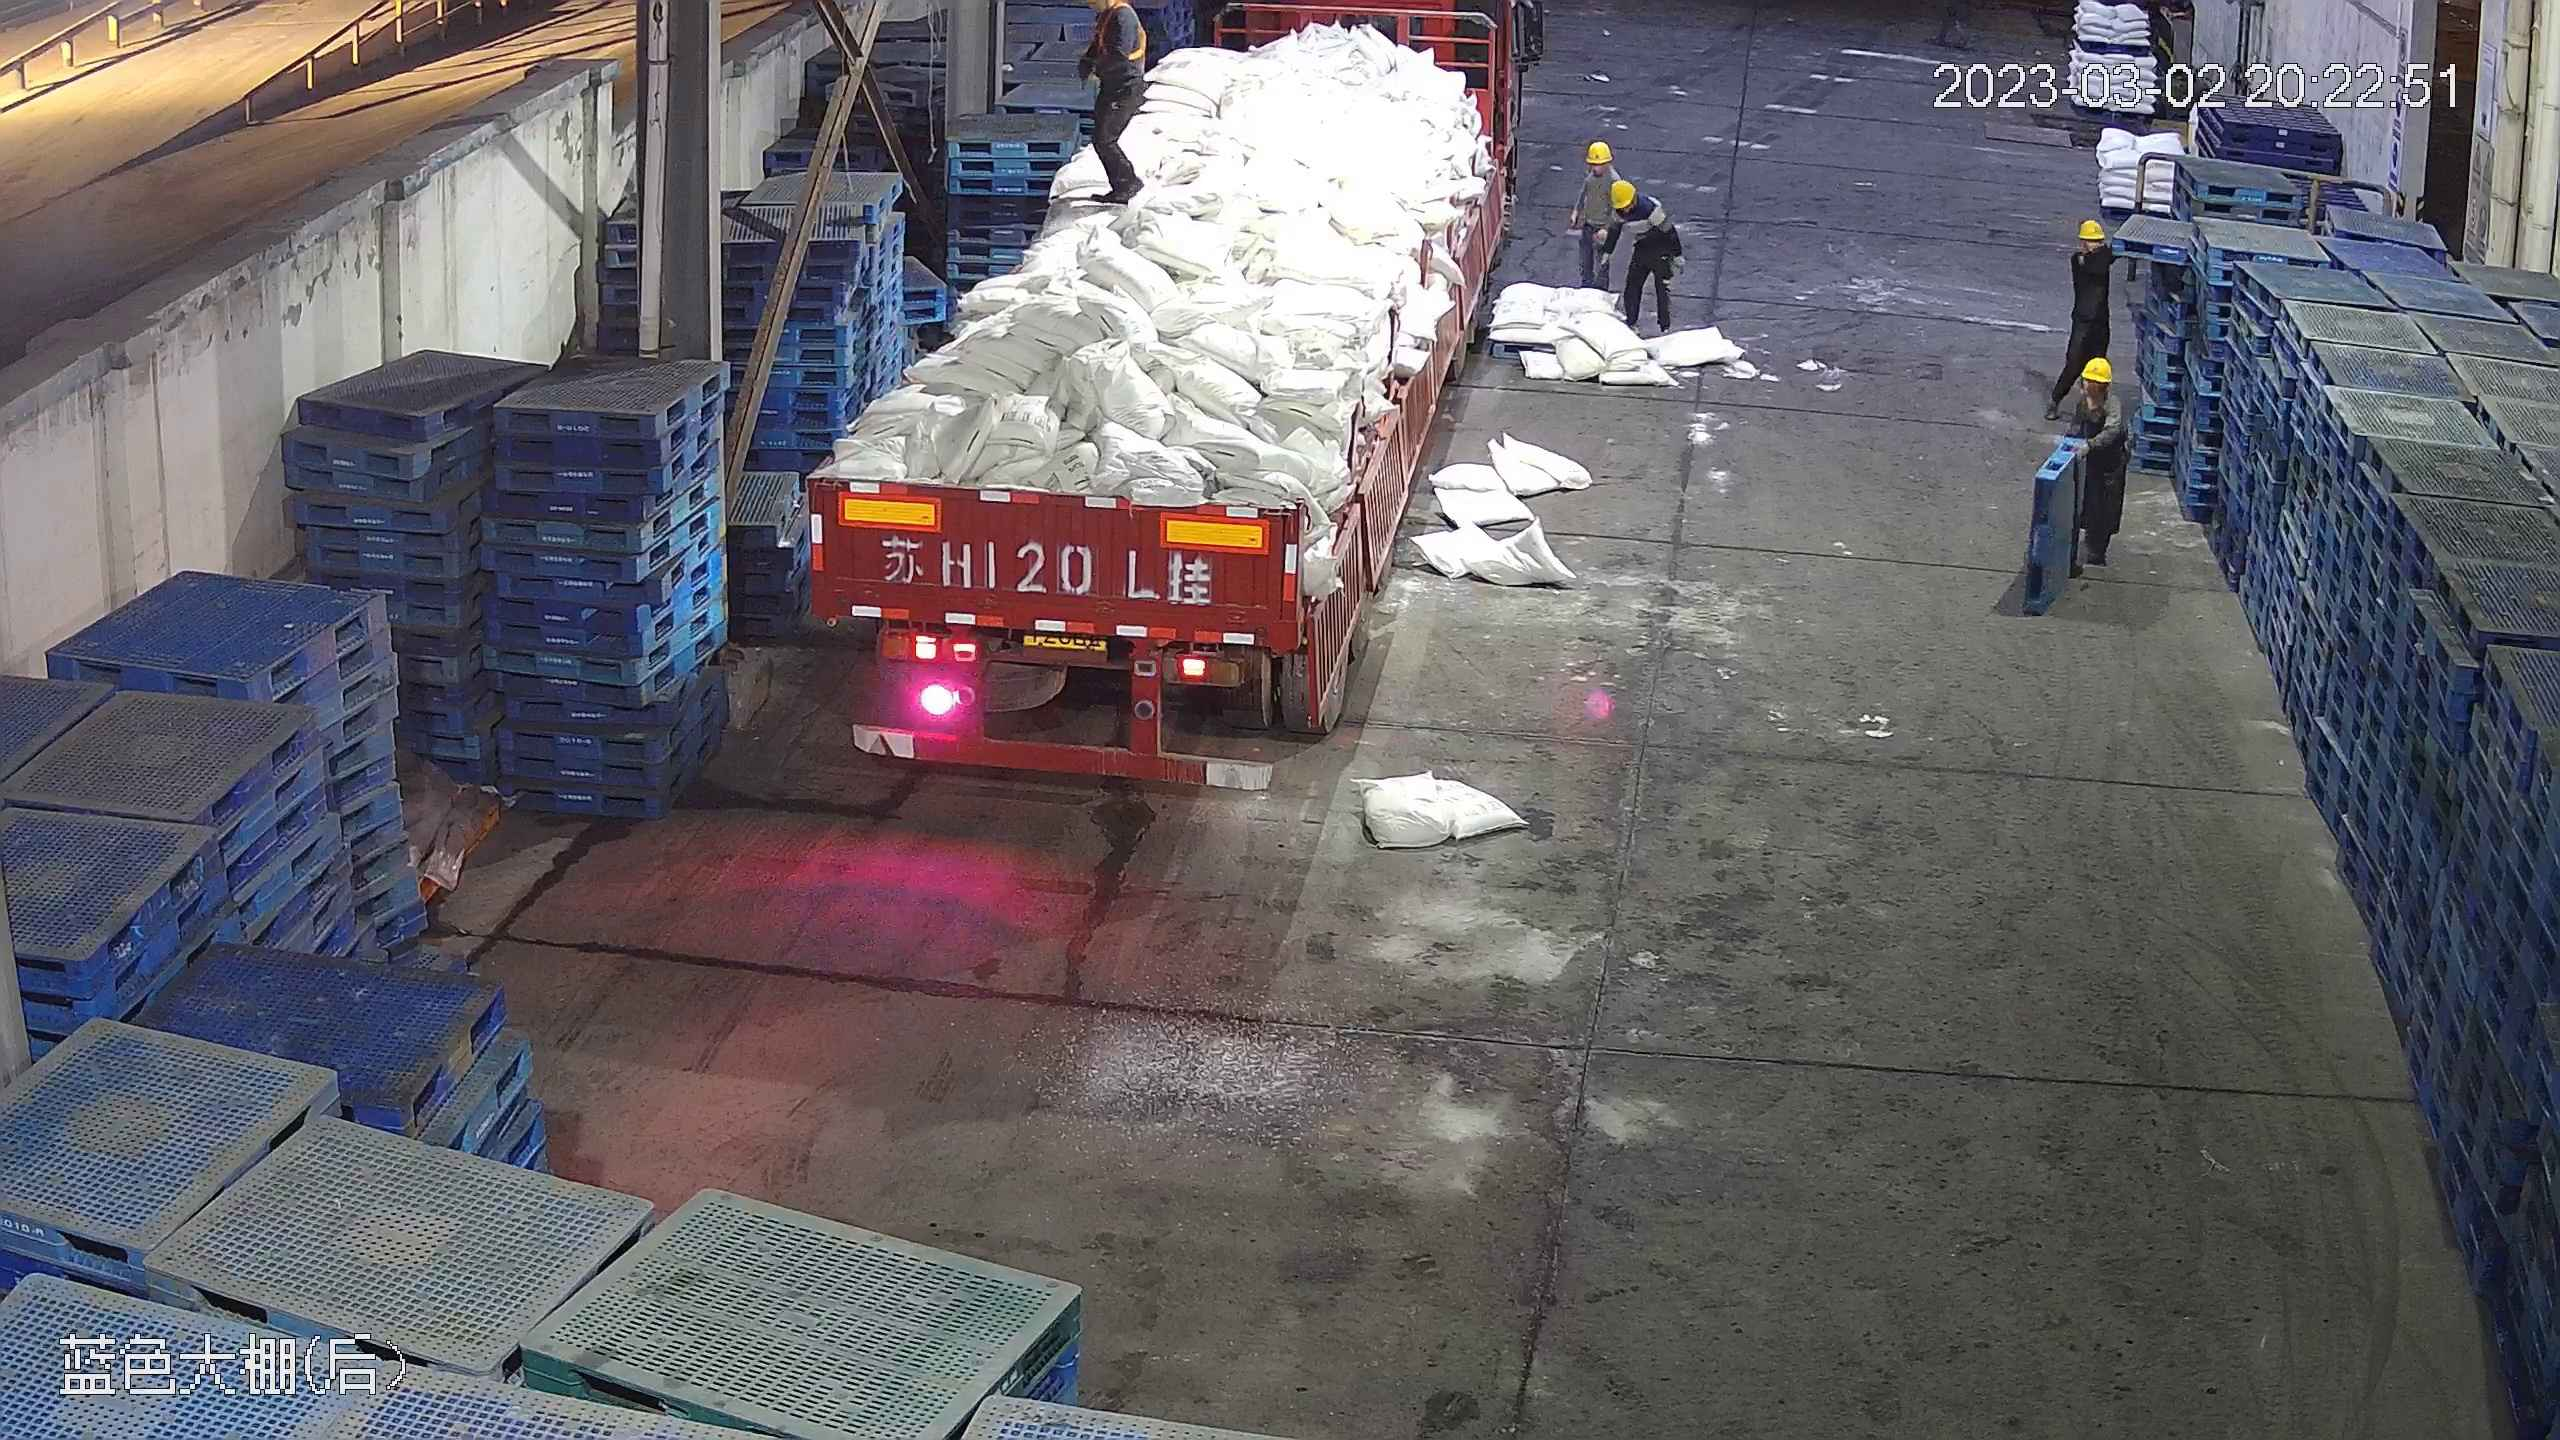belt: (1095, 9, 1148, 59)
head: (2063, 358, 2120, 422), (2068, 216, 2118, 275), (1606, 179, 1662, 228), (1578, 138, 1618, 189)
helmet: (2078, 352, 2111, 382), (2075, 217, 2104, 242), (1583, 138, 1610, 163)
people: (2004, 349, 2128, 616), (1071, 6, 1160, 207), (1606, 172, 1677, 331), (1571, 140, 1628, 305), (2063, 219, 2117, 385)
truck: (799, 2, 1525, 786)
